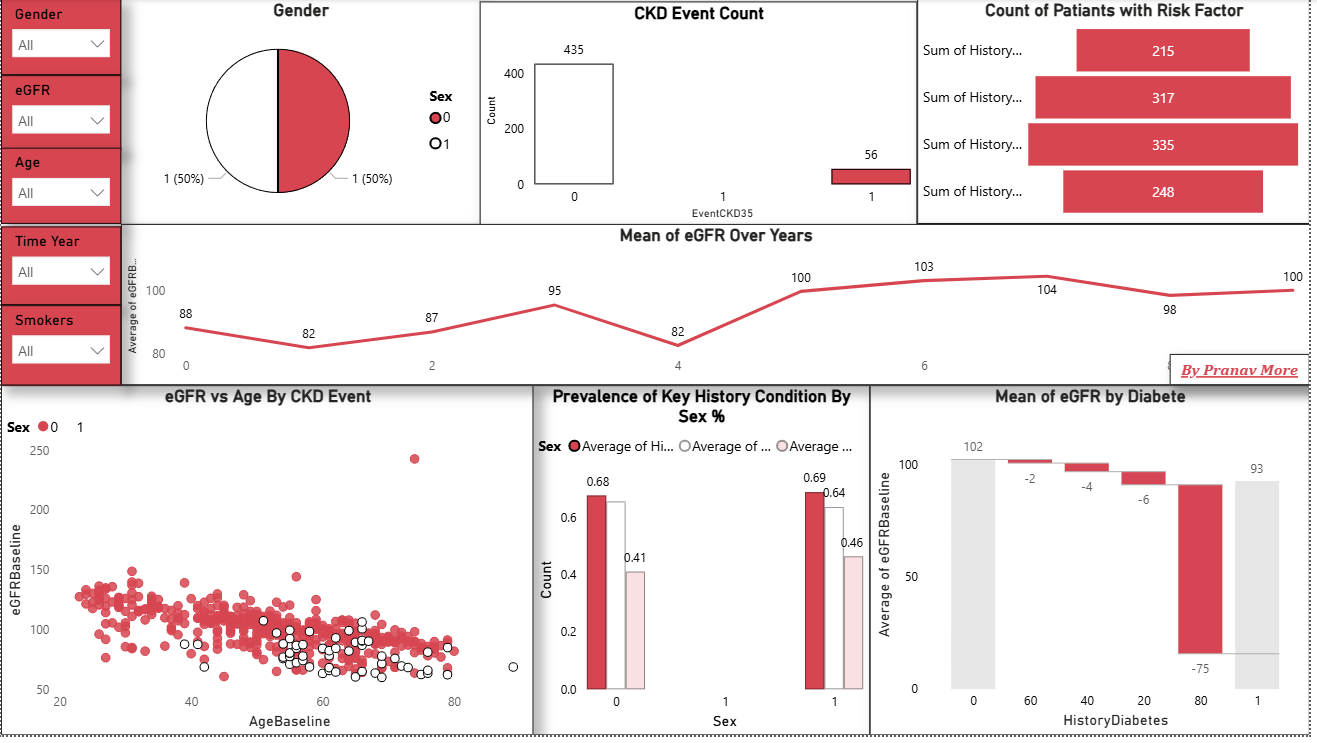

The dashboard page shown, as its layout file describes it:
{"tool":"powerbi","page":{"name":"Page 1","canvas":[1280,720],"ordinal":0},"visuals":[{"type":"pieChart","title":"Gender","fields":{"Y":["Count(ChronicKidneyDisease_EHRs_from_AbuDhabi.Sex)"],"Category":["ChronicKidneyDisease_EHRs_from_AbuDhabi.Sex"]},"box":[117.4,0,351,220.1],"z":0},{"type":"columnChart","title":"CKD Event Count","fields":{"Y":["CountNonNull(ChronicKidneyDisease_EHRs_from_AbuDhabi.EventCKD35)"],"Category":["ChronicKidneyDisease_EHRs_from_AbuDhabi.EventCKD35"]},"box":[468.3,2.4,428,220.1],"z":1000},{"type":"clusteredColumnChart","title":"Prevalence of Key History Condition By Sex %","fields":{"Category":["ChronicKidneyDisease_EHRs_from_AbuDhabi.Sex"],"Y":["Avg(ChronicKidneyDisease_EHRs_from_AbuDhabi.HistoryHTN )","Avg(ChronicKidneyDisease_EHRs_from_AbuDhabi.HistoryDLD)","Avg(ChronicKidneyDisease_EHRs_from_AbuDhabi.HistoryDiabetes)"]},"box":[519.7,377.9,330.2,342.4],"z":2000},{"type":"scatterChart","title":"eGFR vs Age By CKD Event ","fields":{"Y":["ChronicKidneyDisease_EHRs_from_AbuDhabi.eGFRBaseline"],"X":["ChronicKidneyDisease_EHRs_from_AbuDhabi.AgeBaseline"],"Series":["ChronicKidneyDisease_EHRs_from_AbuDhabi.EventCKD35"]},"box":[0,377.9,520.9,342.4],"z":3000},{"type":"funnel","title":"Count of Patiants with Risk Factor","fields":{"Y":["Sum(ChronicKidneyDisease_EHRs_from_AbuDhabi.HistoryDiabetes)","Sum(ChronicKidneyDisease_EHRs_from_AbuDhabi.HistoryDLD)","Sum(ChronicKidneyDisease_EHRs_from_AbuDhabi.HistoryHTN )","Sum(ChronicKidneyDisease_EHRs_from_AbuDhabi.HistoryObesity)"]},"box":[896.3,0,384,220.1],"z":4000},{"type":"waterfallChart","title":"Mean of eGFR by Diabete","fields":{"Breakdown":["ChronicKidneyDisease_EHRs_from_AbuDhabi.AgeBaseline (bins)"],"Y":["Avg(ChronicKidneyDisease_EHRs_from_AbuDhabi.eGFRBaseline)"],"Category":["ChronicKidneyDisease_EHRs_from_AbuDhabi.HistoryDiabetes"]},"box":[849.9,377.9,430.4,342.4],"z":4001},{"type":"lineChart","title":"Mean of eGFR Over Years","fields":{"Y":["Avg(ChronicKidneyDisease_EHRs_from_AbuDhabi.eGFRBaseline)"],"Category":["ChronicKidneyDisease_EHRs_from_AbuDhabi.TIME_YEAR"]},"box":[117.4,220.1,1162.9,157.7],"z":4002},{"type":"slicer","fields":{"Values":["ChronicKidneyDisease_EHRs_from_AbuDhabi.Sex"]},"box":[0,0,117.4,74.6],"z":4003},{"type":"slicer","fields":{"Values":["ChronicKidneyDisease_EHRs_from_AbuDhabi.eGFRBaseline"]},"box":[0,74.6,117.4,73.4],"z":4004},{"type":"slicer","fields":{"Values":["ChronicKidneyDisease_EHRs_from_AbuDhabi.AgeBaseline"]},"box":[0,145.5,117.4,74.6],"z":4005},{"type":"slicer","fields":{"Values":["ChronicKidneyDisease_EHRs_from_AbuDhabi.TIME_YEAR"]},"box":[0,222.6,117.4,77],"z":4006},{"type":"slicer","fields":{"Values":["ChronicKidneyDisease_EHRs_from_AbuDhabi.HistorySmoking"]},"box":[0,299.6,117.4,78.3],"z":4007},{"type":"textbox","box":[1143.3,347.3,137,30.6],"z":4009}]}

Visuals, with their boxes in screenshot pixels (x1, y1, x2, y2), scaled from the page's 1280x720 canvas onto the 1317x743 screenshot:
"Gender" pieChart: Rect(121, 0, 482, 227)
"CKD Event Count" columnChart: Rect(482, 2, 922, 230)
"Prevalence of Key History Condition By Sex %" clusteredColumnChart: Rect(535, 390, 874, 742)
"eGFR vs Age By CKD Event " scatterChart: Rect(0, 390, 536, 742)
"Count of Patiants with Risk Factor" funnel: Rect(922, 0, 1316, 227)
"Mean of eGFR by Diabete" waterfallChart: Rect(874, 390, 1316, 742)
"Mean of eGFR Over Years" lineChart: Rect(121, 227, 1316, 390)
slicer - ChronicKidneyDisease_EHRs_from_AbuDhabi.Sex: Rect(0, 0, 121, 77)
slicer - ChronicKidneyDisease_EHRs_from_AbuDhabi.eGFRBaseline: Rect(0, 77, 121, 153)
slicer - ChronicKidneyDisease_EHRs_from_AbuDhabi.AgeBaseline: Rect(0, 150, 121, 227)
slicer - ChronicKidneyDisease_EHRs_from_AbuDhabi.TIME_YEAR: Rect(0, 230, 121, 309)
slicer - ChronicKidneyDisease_EHRs_from_AbuDhabi.HistorySmoking: Rect(0, 309, 121, 390)
textbox: Rect(1176, 358, 1316, 390)
